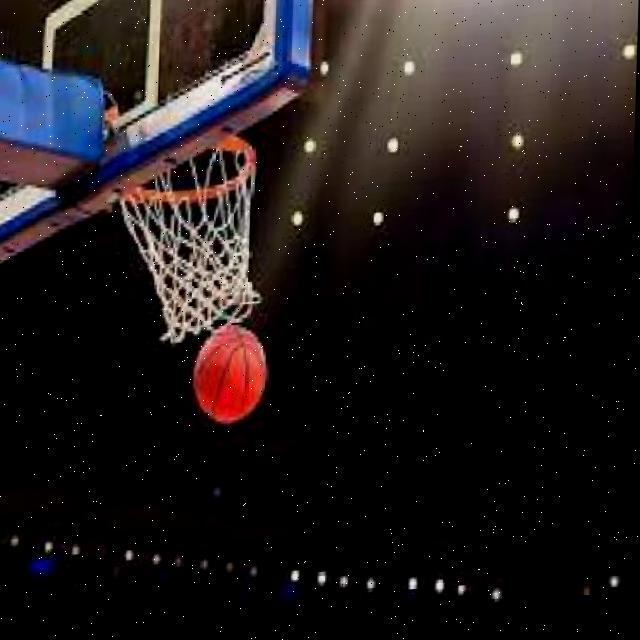basketball: (193, 319, 270, 428)
hoop: (106, 132, 268, 353)
